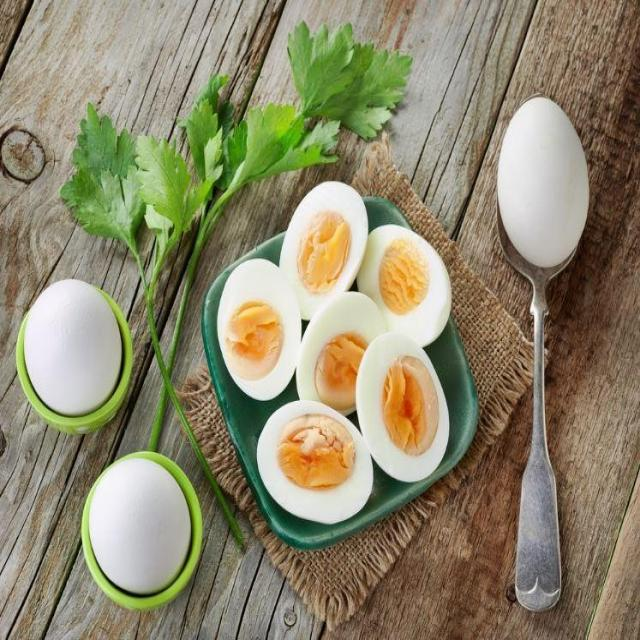trung luoc: (257, 292, 449, 524), (278, 181, 368, 319), (217, 258, 301, 400), (356, 224, 449, 345), (278, 415, 354, 489)
